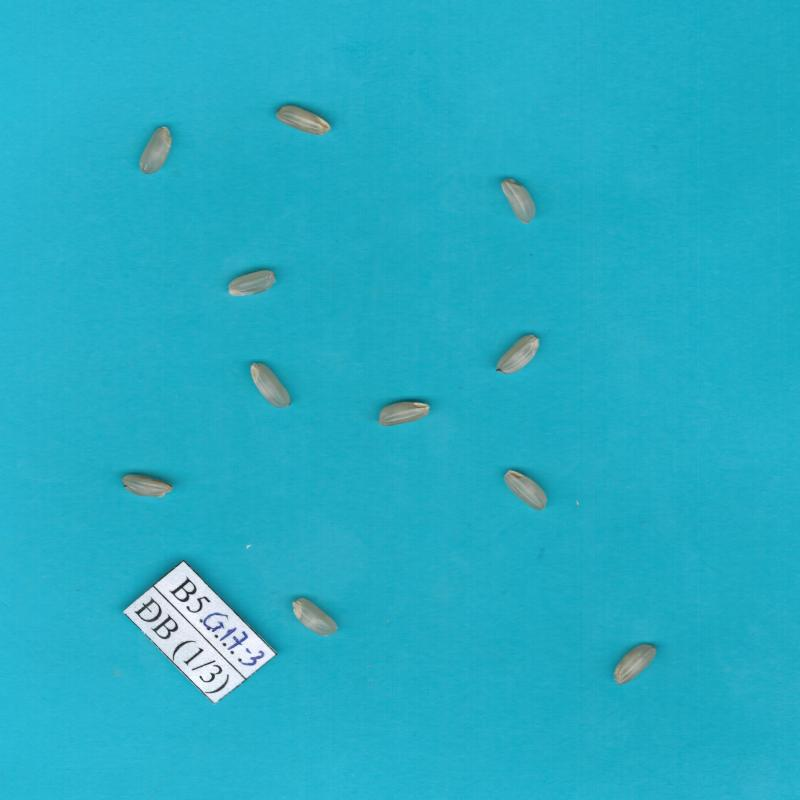Rice: (251, 363, 290, 408), (505, 470, 547, 511), (293, 598, 338, 636), (614, 644, 655, 685), (497, 335, 539, 374), (276, 106, 331, 135), (501, 179, 535, 224), (140, 127, 172, 174), (378, 402, 430, 426), (229, 271, 275, 296), (122, 475, 172, 497)
